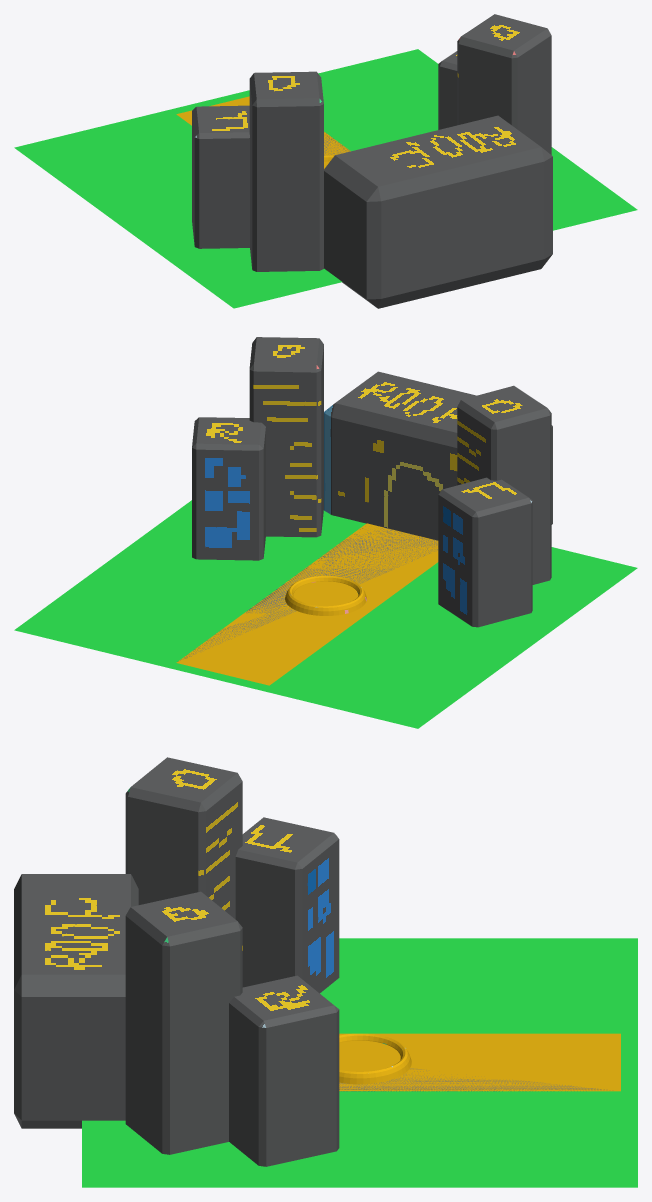
File: buildings(1).gltf
The picture shows the model from 3 angles, top to bottom: view 1: azimuth 30°, elevation 25°; view 2: azimuth 150°, elevation 25°; view 3: azimuth 270°, elevation 25°; orthographic projection. The views are drawn at different scales.
Visible parts, largest first — view 1: beveled_cuboid (×5), cuboid (×2); view 2: beveled_cuboid (×5), cuboid (×2), torus, cylinder; view 3: beveled_cuboid (×5), cuboid (×2), cylinder, torus.
Boxes of the visible parts, x1,y1,x2,y2 form: beveled_cuboid (×5): (192, 14, 552, 308); cuboid (×2): (14, 49, 637, 308); beveled_cuboid (×5): (192, 337, 552, 627); cuboid (×2): (14, 500, 637, 728); torus: (285, 576, 366, 615); cylinder: (293, 581, 358, 606); beveled_cuboid (×5): (14, 757, 339, 1166); cuboid (×2): (82, 938, 637, 1187); cylinder: (339, 1040, 400, 1071); torus: (339, 1033, 411, 1084).
Size of the model in its own units: 6.5 by 3.87 by 6.88.
Materials: 1 (1 with a texture image).
